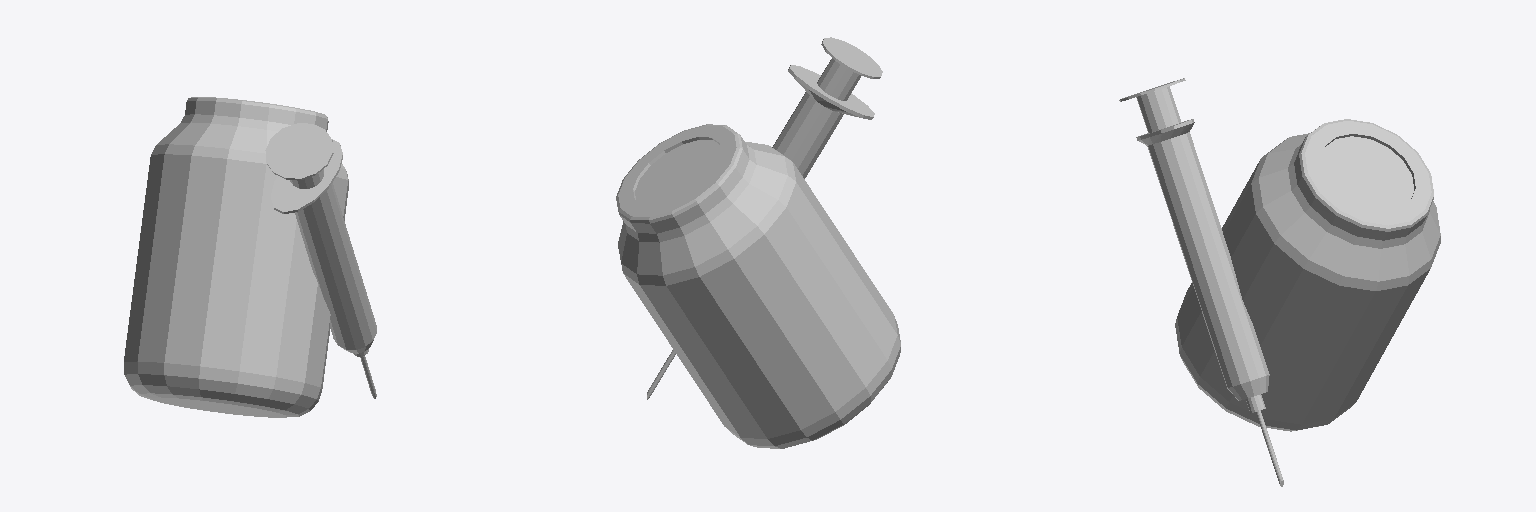
The model's file is Tren.obj.
3 views of the same model, side by side, from view 1: azimuth 30°, elevation 25°; view 2: azimuth 150°, elevation 25°; view 3: azimuth 270°, elevation 25° (orthographic).
Visible parts, largest first — view 1: Cylinder; view 2: Cylinder; view 3: Cylinder.
Boxes of the visible parts, x1=… form: Cylinder: x1=124, y1=97, x2=376, y2=417; Cylinder: x1=616, y1=37, x2=900, y2=448; Cylinder: x1=1119, y1=78, x2=1440, y2=486.
Bounding box in the file's own units: 2.75 × 3.75 × 3.17.